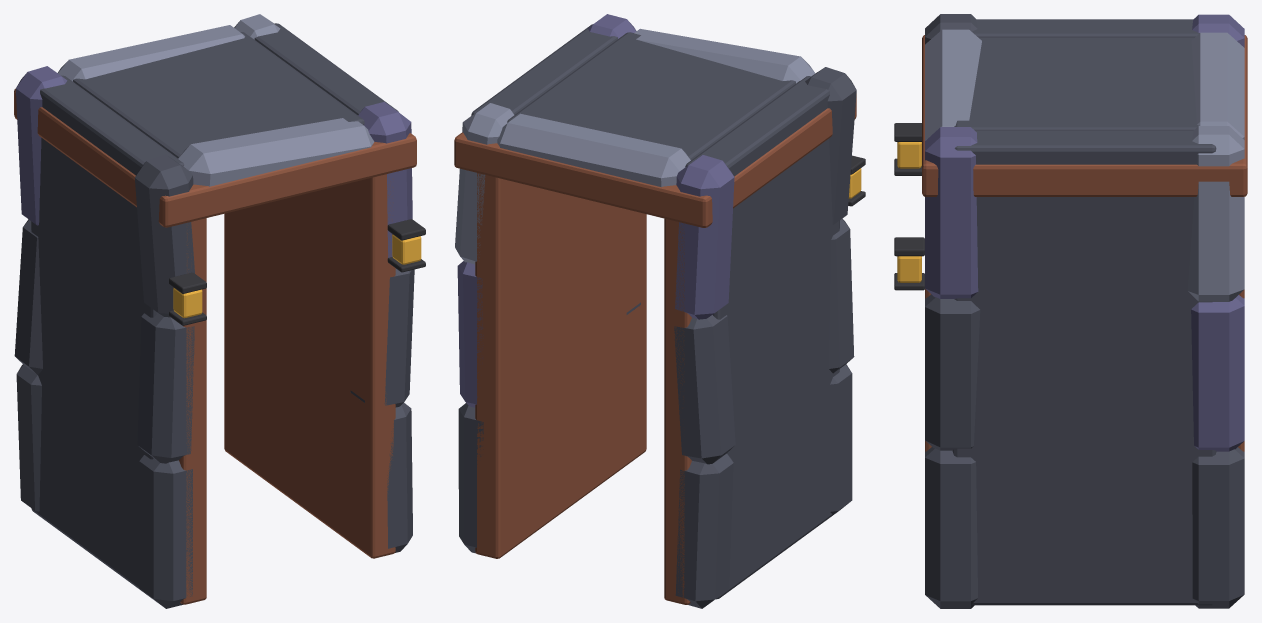
File: mine-portal.glb
The picture shows the model from 3 angles, left to right: view 1: azimuth 30°, elevation 25°; view 2: azimuth 150°, elevation 25°; view 3: azimuth 270°, elevation 25°; orthographic projection. The views are drawn at different scales.
Visible parts, largest first — view 1: mine-portal, glow-mine-portal; view 2: mine-portal; view 3: mine-portal, glow-mine-portal.
Boxes of the visible parts, bbox=[...] form: mine-portal: bbox=[14, 14, 425, 608]; glow-mine-portal: bbox=[173, 234, 421, 317]; mine-portal: bbox=[454, 14, 865, 608]; mine-portal: bbox=[894, 14, 1247, 608]; glow-mine-portal: bbox=[897, 142, 921, 282].
Bounding box in the file's own units: 1.07 × 1.71 × 1.15.
Materials: 1 (1 with a texture image).
